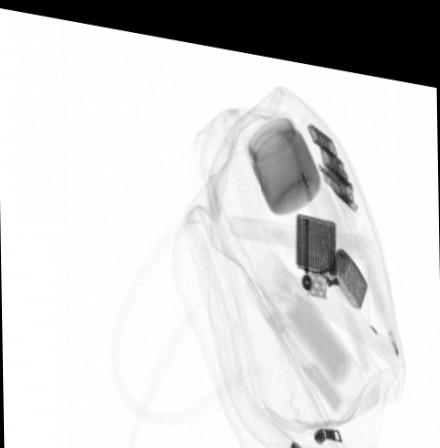Lighter: (294, 201, 367, 295)
